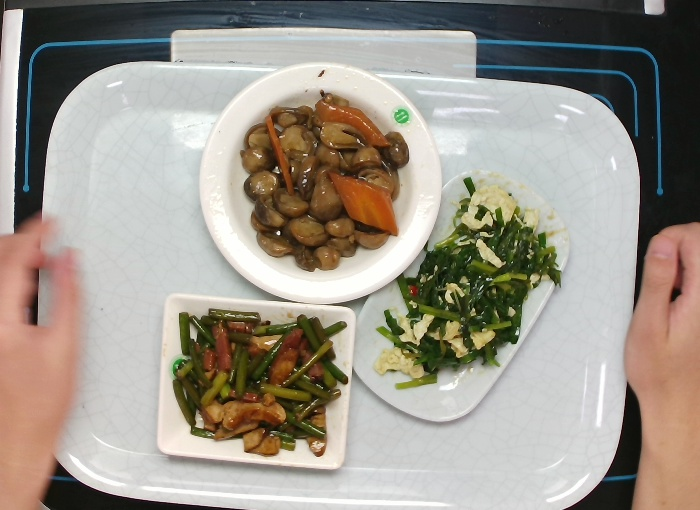WCQzf-Bai_Se_Si_Fang_Die: (150, 293, 360, 472)
WCQzf-Kuan_Bian_Yuan_Die: (195, 61, 444, 306)
WCQzf-Tuo_Yuan_Pan: (344, 165, 574, 428)
